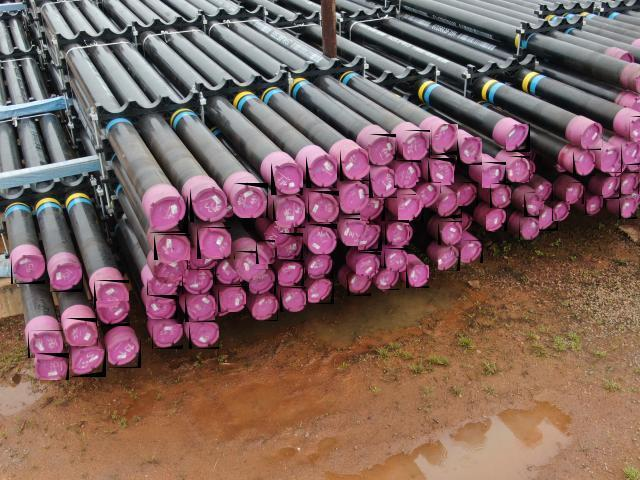pipe: (150, 196, 188, 233), (190, 187, 227, 222), (233, 183, 268, 218), (154, 234, 190, 265), (197, 227, 231, 259), (272, 162, 304, 195), (234, 251, 268, 282), (306, 155, 337, 188), (94, 280, 129, 309), (108, 338, 141, 368), (11, 255, 45, 284), (28, 330, 63, 358), (308, 191, 339, 222), (273, 198, 305, 228), (340, 149, 370, 181), (50, 263, 83, 292), (72, 349, 106, 377), (154, 260, 188, 288), (340, 184, 370, 215), (65, 318, 98, 346), (35, 353, 69, 380), (308, 224, 338, 254), (368, 134, 396, 165), (96, 301, 130, 326), (403, 130, 430, 161), (431, 124, 458, 155), (369, 169, 397, 198), (185, 295, 215, 322), (264, 221, 294, 248), (341, 218, 369, 246), (189, 324, 219, 350), (152, 324, 183, 349), (182, 269, 213, 294), (147, 277, 179, 301), (394, 160, 421, 188), (146, 295, 177, 319), (218, 286, 246, 312), (398, 194, 424, 222), (428, 158, 454, 185), (457, 137, 482, 165), (278, 233, 304, 259), (278, 260, 304, 286), (249, 269, 276, 294), (360, 194, 385, 221), (506, 124, 530, 152), (215, 259, 240, 285), (252, 296, 278, 321), (280, 287, 306, 312), (308, 279, 334, 304), (356, 252, 381, 278), (416, 182, 441, 208), (308, 254, 333, 279), (358, 225, 382, 251), (482, 162, 506, 188), (385, 220, 409, 245), (438, 193, 462, 218), (582, 123, 604, 150), (384, 248, 408, 272), (438, 222, 462, 246), (508, 156, 530, 182), (573, 150, 595, 176), (601, 147, 622, 173), (406, 265, 429, 288), (348, 274, 372, 296), (438, 247, 460, 271), (486, 207, 507, 232), (490, 183, 511, 208), (376, 268, 399, 290), (461, 240, 483, 263), (457, 182, 478, 206), (519, 216, 540, 240), (524, 192, 544, 216), (256, 240, 275, 264), (621, 142, 640, 165), (539, 210, 558, 231), (602, 178, 621, 199), (566, 182, 584, 204), (622, 172, 640, 194), (620, 198, 638, 219), (536, 181, 554, 201), (552, 201, 570, 221), (585, 196, 603, 215), (629, 116, 640, 141)
